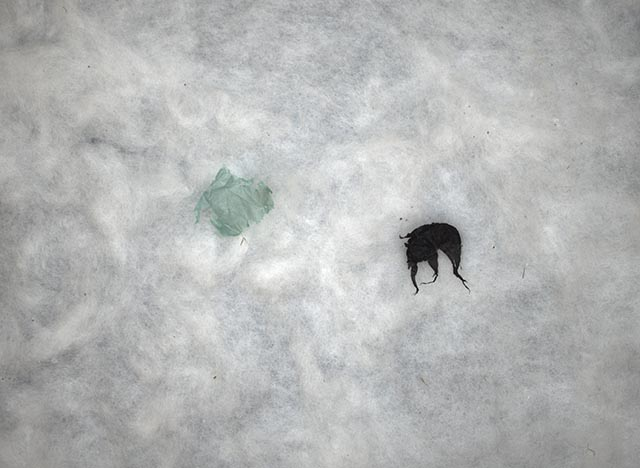plastic film: (193, 166, 276, 238), (399, 220, 472, 296)
